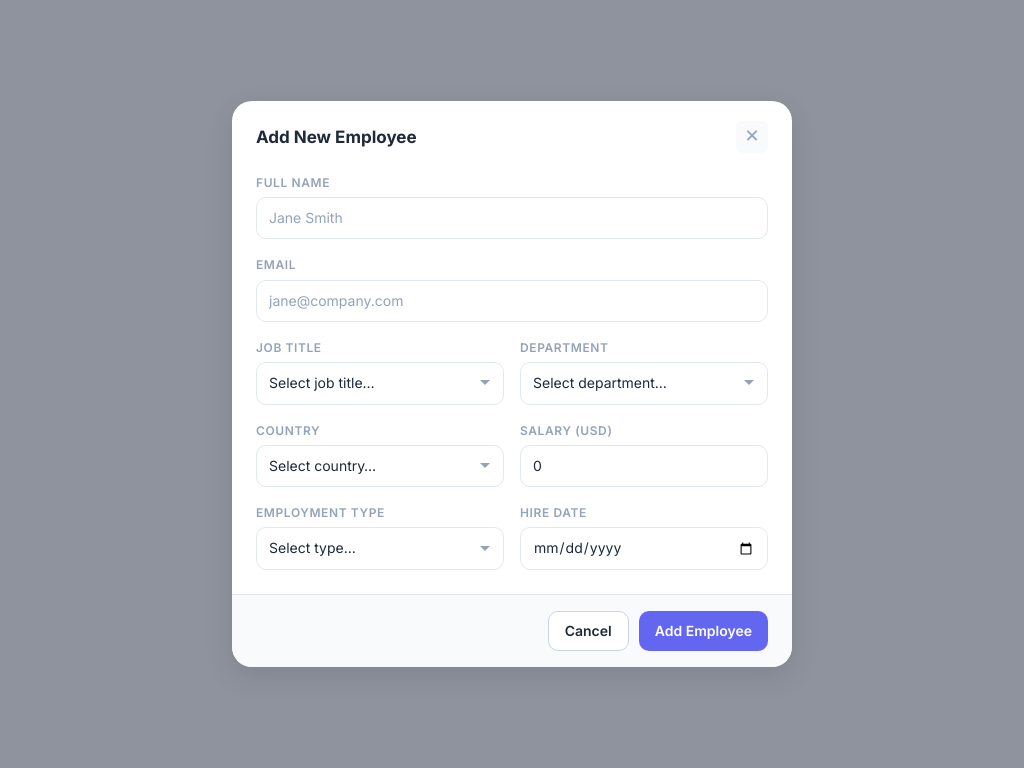
Scenario: submit_without_name_shows_error
Click the button "Add Employee" at (703, 631), box [639,611,768,651]
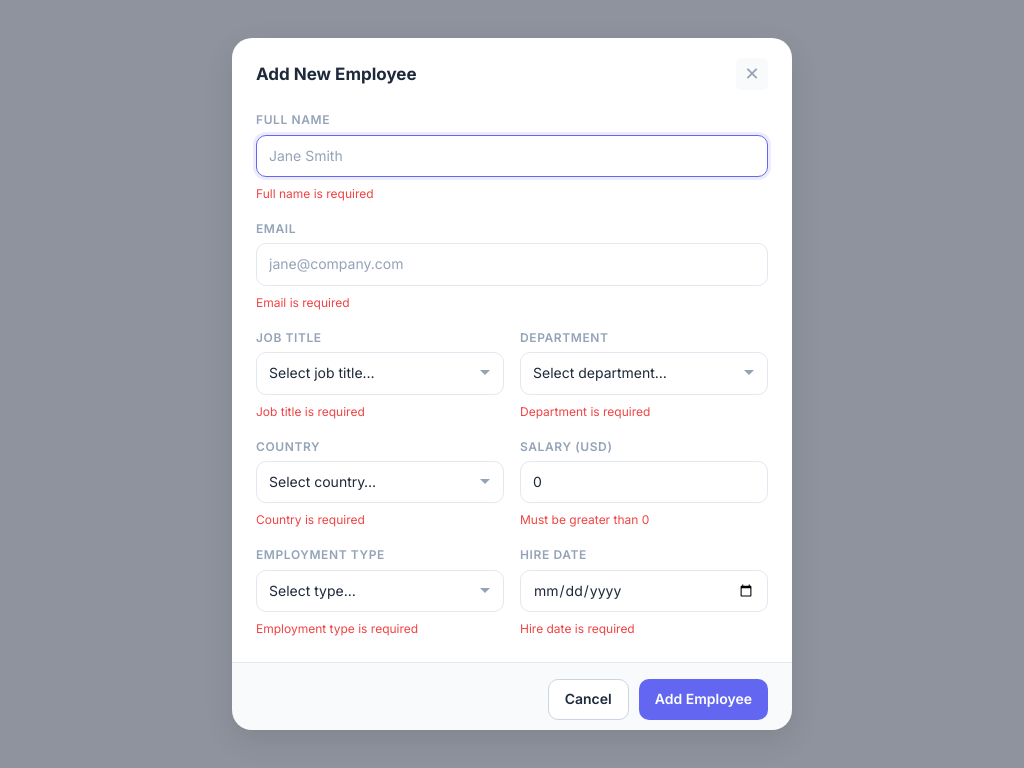
Expected: the text "Full name is required" is shown, [256,186,374,201]
